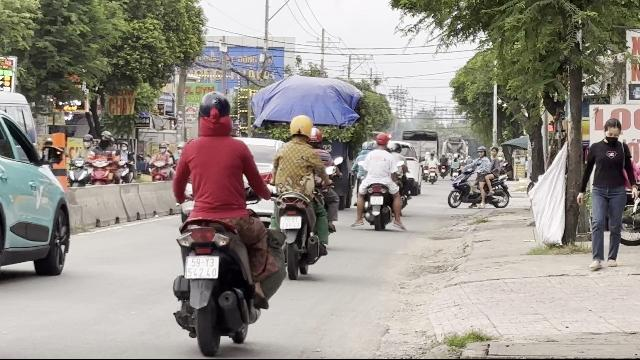helmet: (194, 91, 234, 137), (287, 115, 313, 142), (308, 126, 322, 146)
licenseplate: (186, 256, 218, 278), (280, 216, 300, 229)
motorcyclist: (166, 90, 284, 354), (269, 114, 337, 278)
